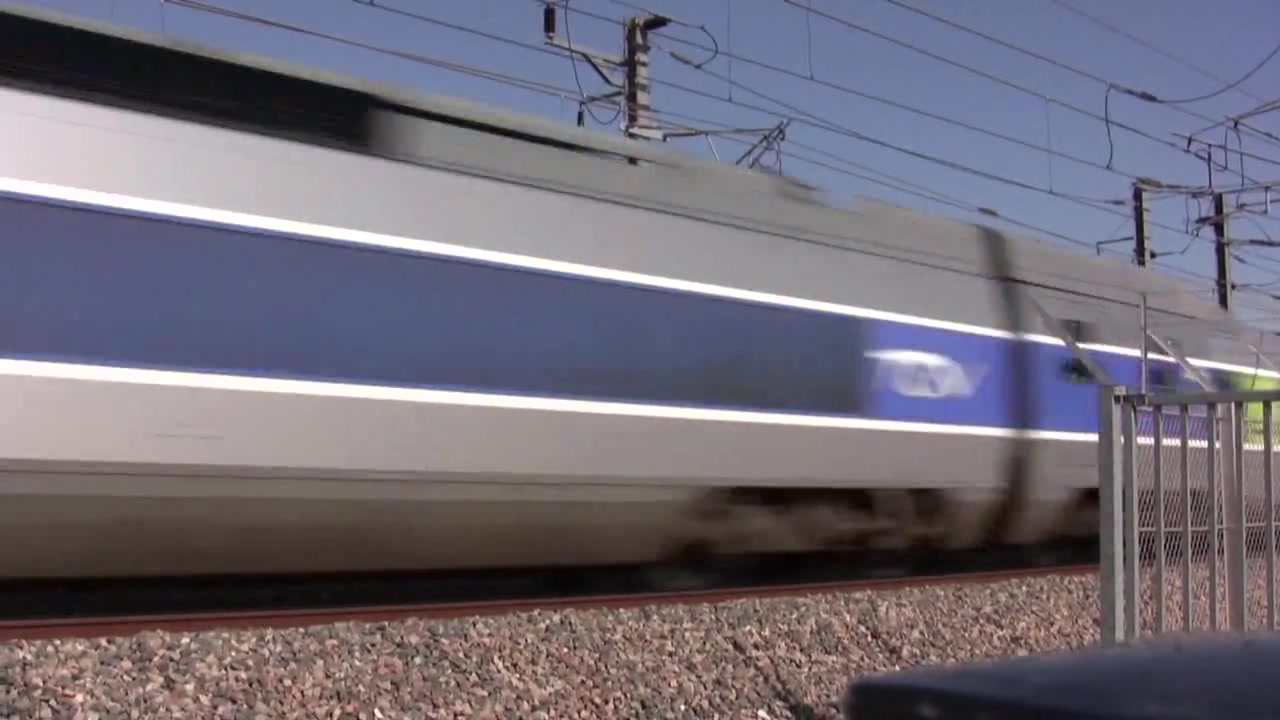train: (1, 1, 1280, 590)
